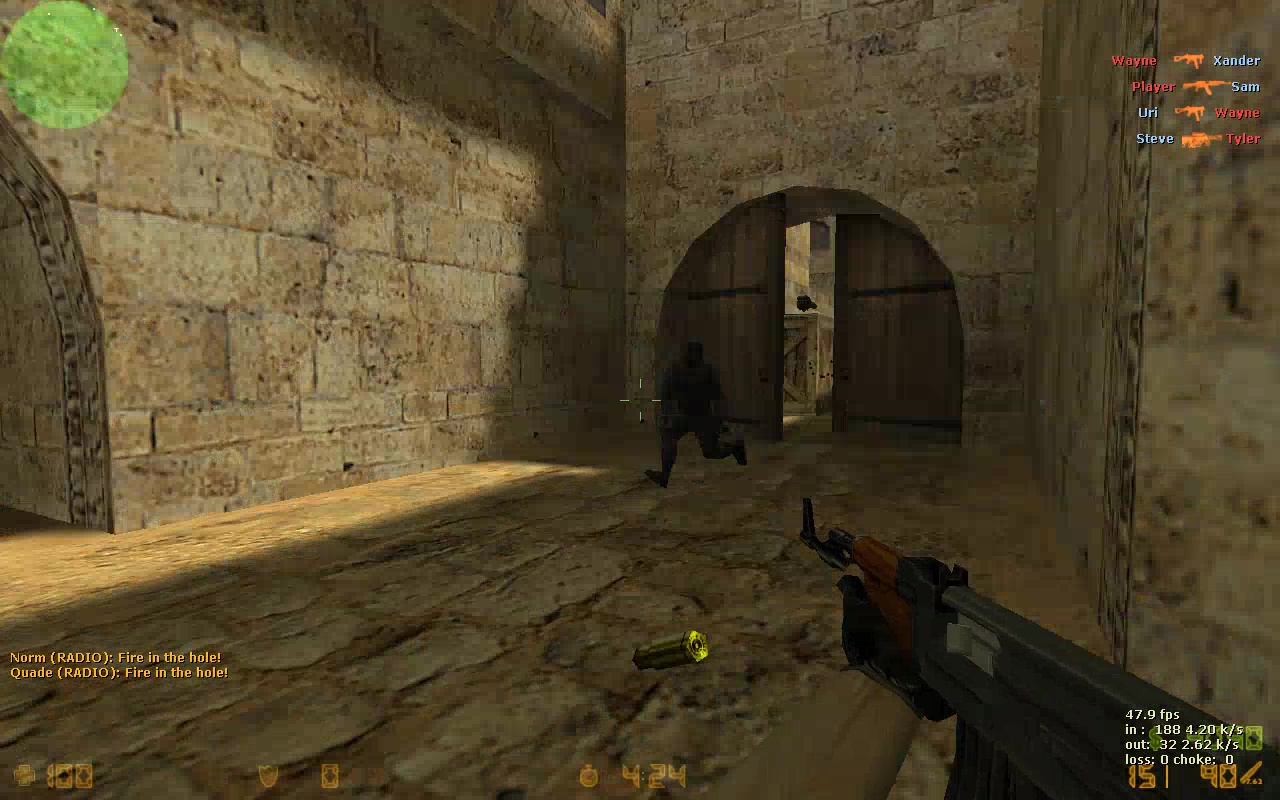ct: (645, 336, 749, 492)
